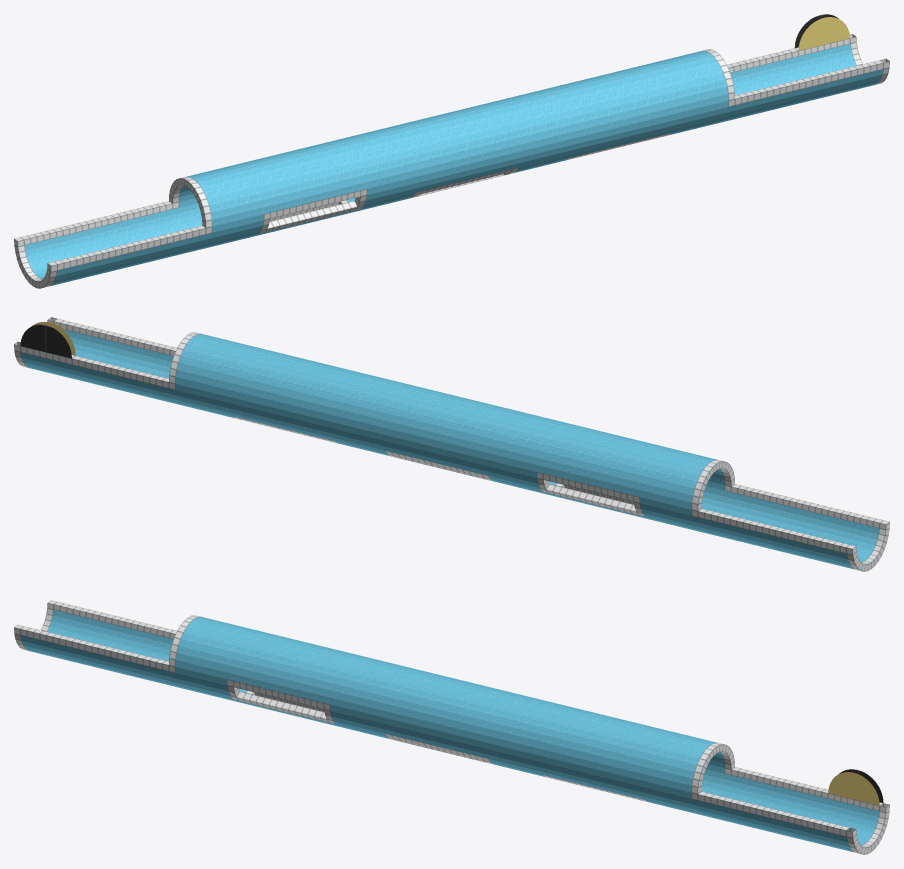
The model's file is ThinIcePipe3.obj.
3 renders of one model, top to bottom at view 1: azimuth 30°, elevation 25°; view 2: azimuth 150°, elevation 25°; view 3: azimuth 330°, elevation 25°, orthographic.
Parts seen in each view (by area): view 1: ThinIcePipe3; view 2: ThinIcePipe3; view 3: ThinIcePipe3.
Boxes of the visible parts, x1,y1,x2,y2 form: ThinIcePipe3: [14, 14, 889, 288]; ThinIcePipe3: [14, 317, 889, 571]; ThinIcePipe3: [14, 600, 889, 854].
Bounding box in the file's own units: 65 × 5 × 5.
